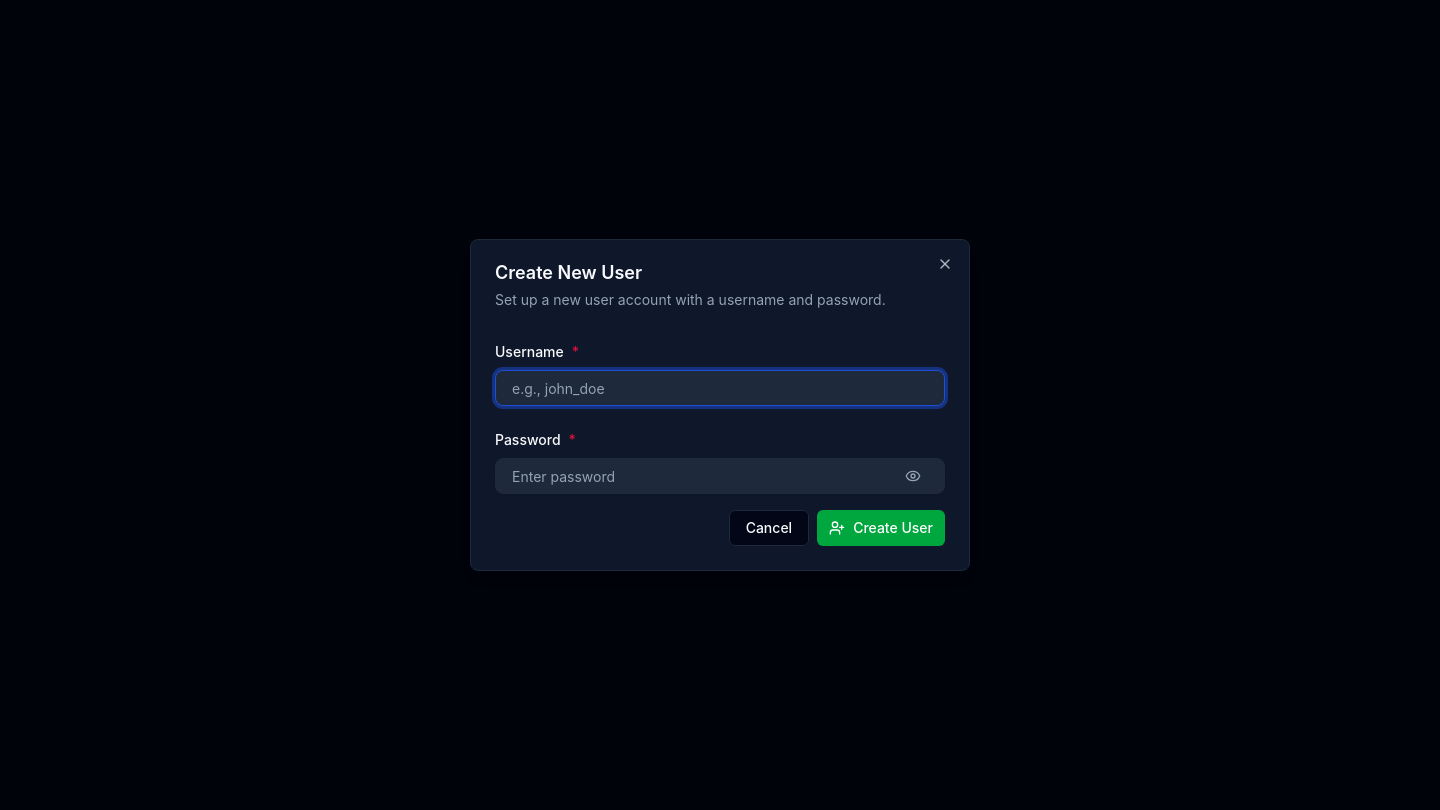
Scenario: CreateUserModal › shows validation errors and blocks submit for empty form
This screenshot has width=1440, height=810.
Step 1. Click the button "Create User" → (881, 528), box x1=817 y1=510 x2=945 y2=546
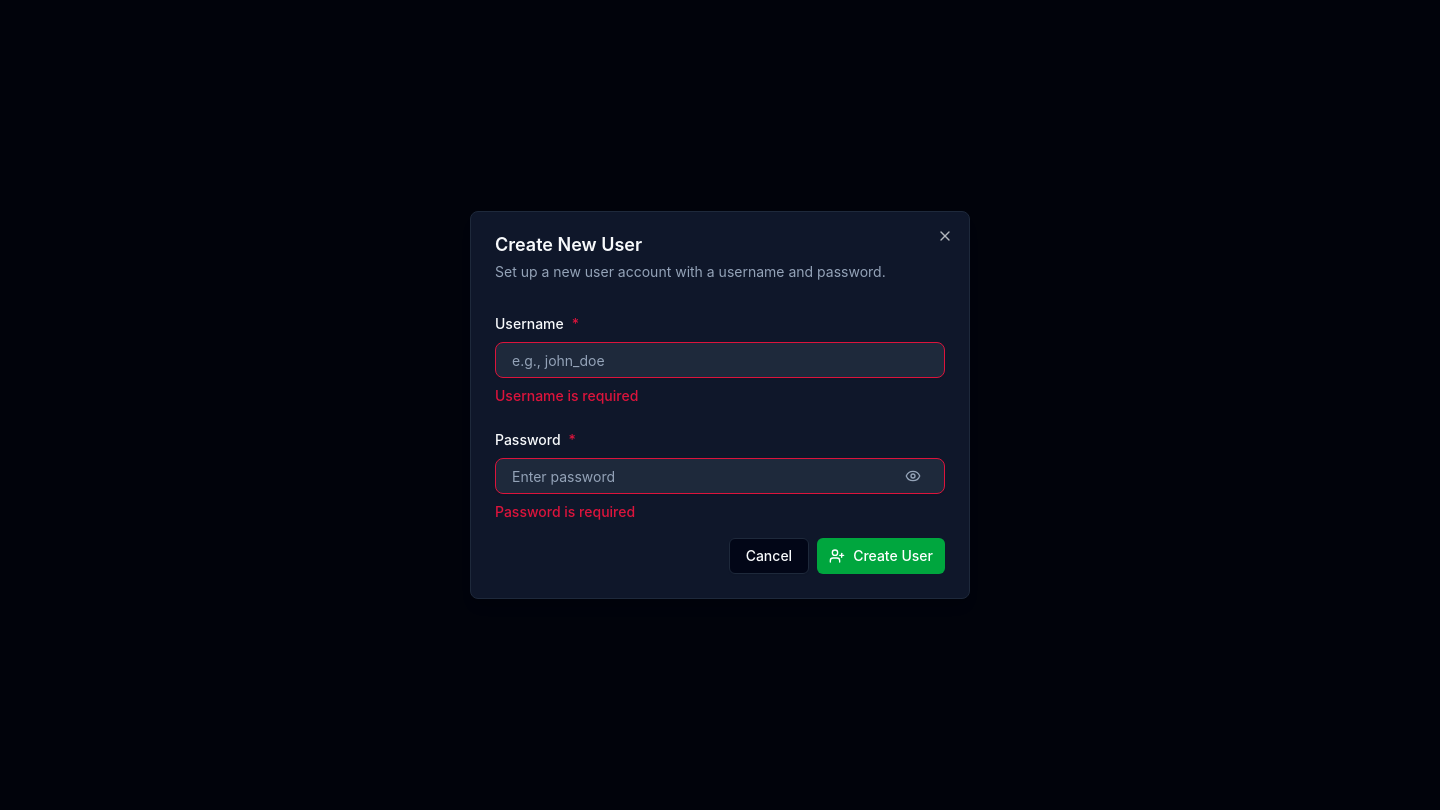
Check: the text "Username is required" is shown, box x1=495 y1=387 x2=638 y2=404
Check: the text "Password is required" is shown, box x1=495 y1=503 x2=635 y2=520
